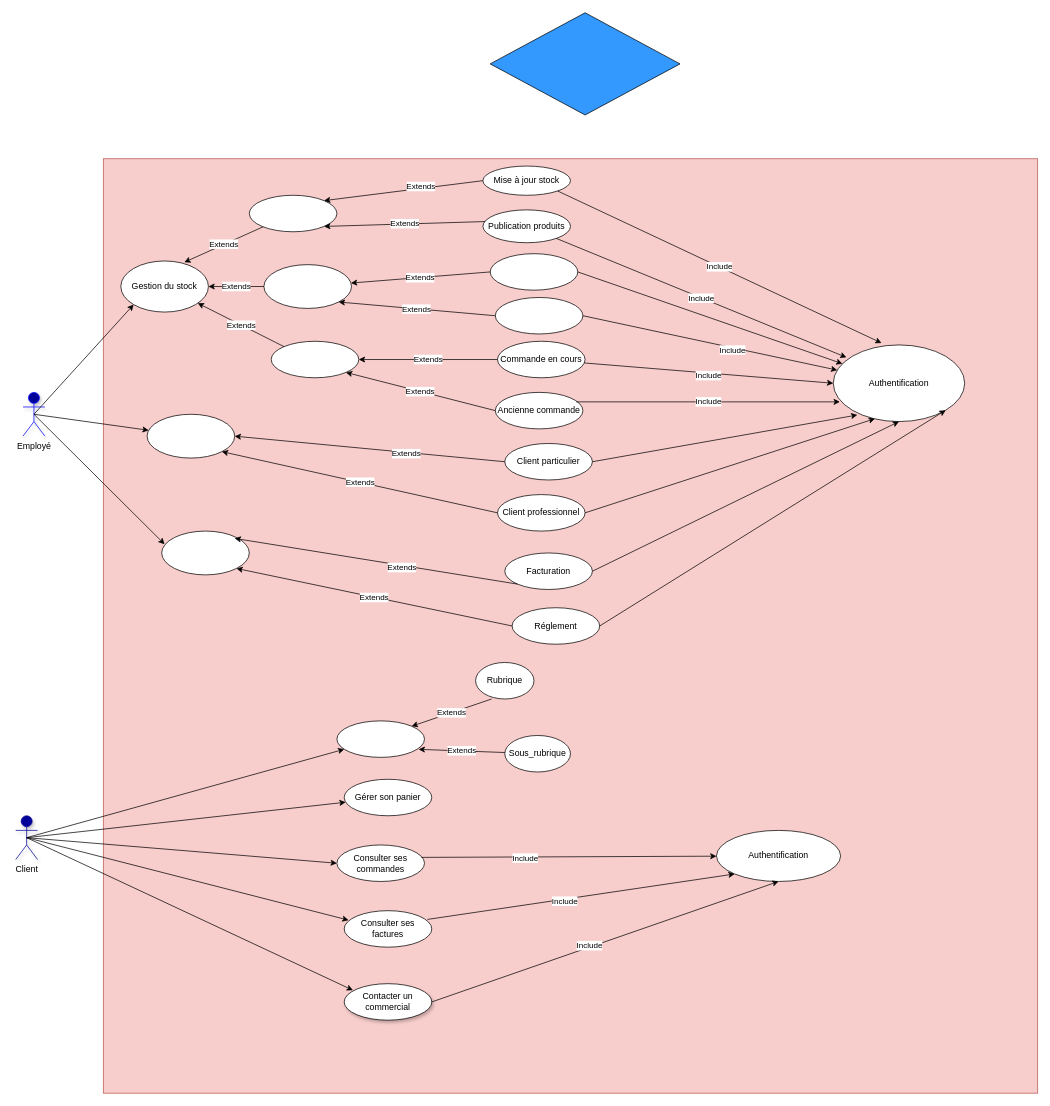
Some shapes in this 1050 by 1106 pixel diagram are drawn without their labels. Here are the shapes that lost their labels. From the top down, the centre of each, then its label:
At (584,63): "WEB".
At (293,213): "Catalogue produit".
At (307,286): "Approvisionnement fournisseurs".
At (533,271): "Constructeurs".
At (539,315): "Importateur".
At (314,359): "commandes".
At (190,436): "Gestion commerciale".
At (205,552): "Comptabilité".
At (380,738): "Consulter liste produits".
